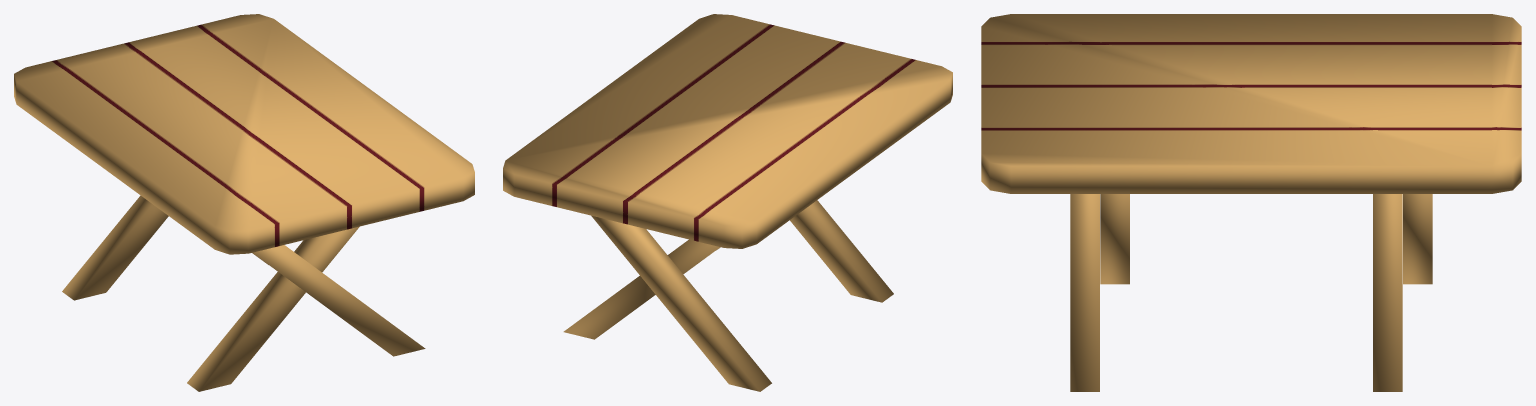
The model's file is Table.fbx.
The picture shows the model from 3 angles, left to right: view 1: azimuth 30°, elevation 25°; view 2: azimuth 150°, elevation 25°; view 3: azimuth 270°, elevation 25°; orthographic projection. The views are drawn at different scales.
Parts seen in each view (by area): view 1: Cube.006; view 2: Cube.006; view 3: Cube.006.
Part boxes in pixels (x1,y1,x2,y2): Cube.006: [14, 14, 474, 391]; Cube.006: [503, 14, 952, 391]; Cube.006: [981, 14, 1521, 391].
Bounding box in the file's own units: 100 × 73.19 × 150.
Materials: 1 (1 with a texture image).
